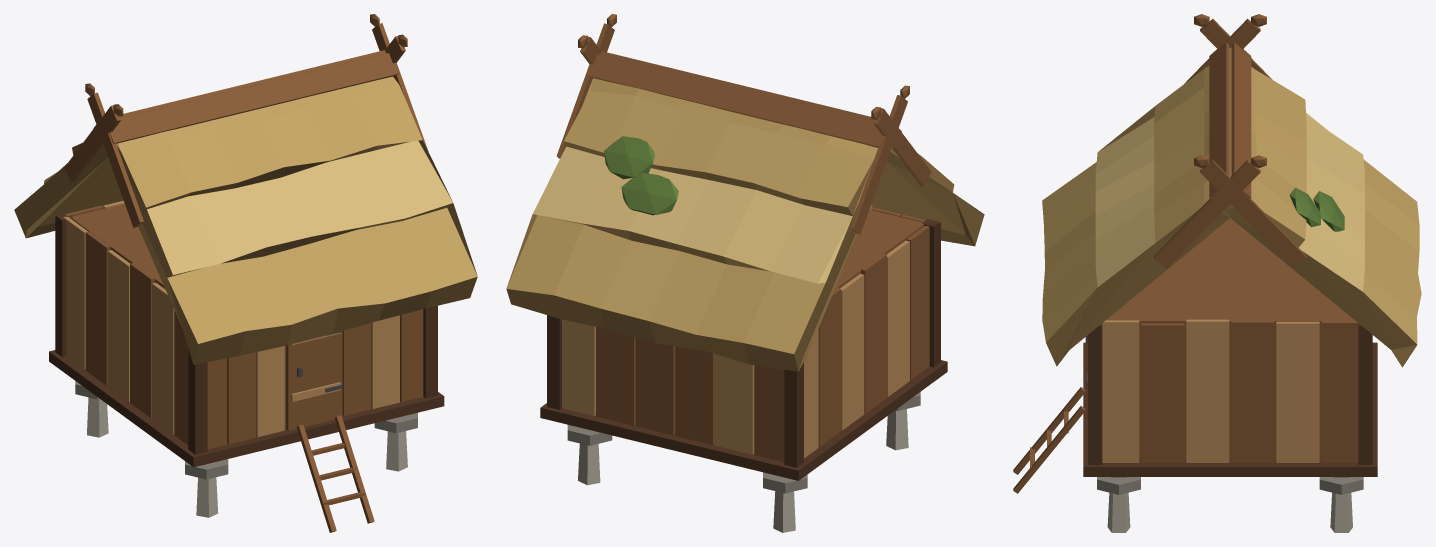
Rendered from Dorf_Kornspeicher.fbx.
3 views of the same model, side by side, from view 1: azimuth 30°, elevation 25°; view 2: azimuth 150°, elevation 25°; view 3: azimuth 270°, elevation 25° (orthographic). The views are drawn at different scales.
Visible parts, largest first — view 1: Dorf_Kornspeicher; view 2: Dorf_Kornspeicher; view 3: Dorf_Kornspeicher.
Part boxes in pixels (bbox=[...]): Dorf_Kornspeicher: bbox=[14, 14, 477, 532]; Dorf_Kornspeicher: bbox=[506, 14, 984, 532]; Dorf_Kornspeicher: bbox=[1013, 14, 1421, 532].
Size of the model in its own units: 4.29 by 5.53 by 5.13.
